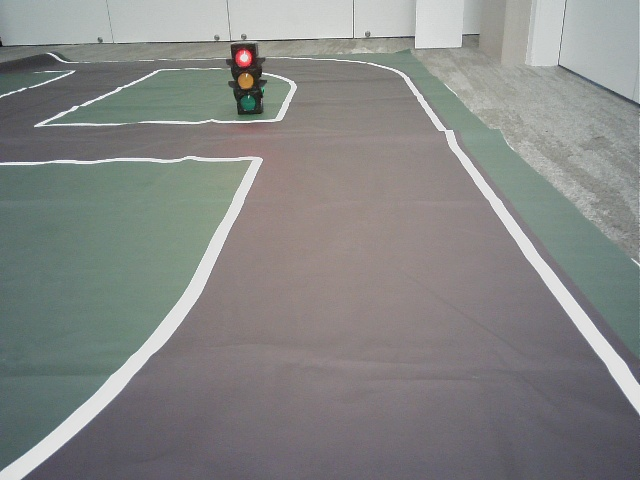red: (231, 47, 260, 112)
